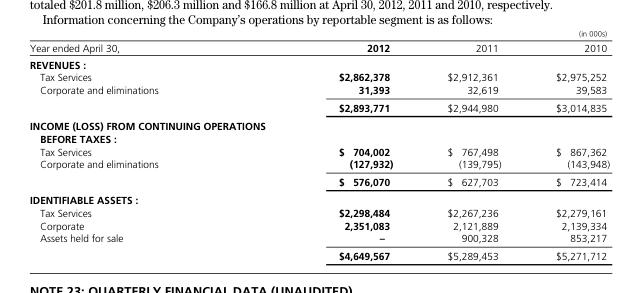table: (28, 28, 609, 261)
table column: (28, 28, 247, 261), (247, 28, 419, 261), (419, 28, 527, 261), (527, 28, 609, 261)
table column header: (28, 28, 609, 55)
table projected row header: (28, 116, 609, 144), (28, 55, 609, 70), (28, 190, 609, 205)
table row: (28, 116, 609, 144), (28, 28, 609, 55), (28, 98, 609, 116), (28, 172, 609, 190), (28, 55, 609, 70), (28, 83, 609, 98), (28, 157, 609, 172), (28, 190, 609, 205), (28, 231, 609, 246), (28, 246, 609, 261), (28, 70, 609, 83), (28, 144, 609, 157), (28, 205, 609, 218), (28, 218, 609, 231)
